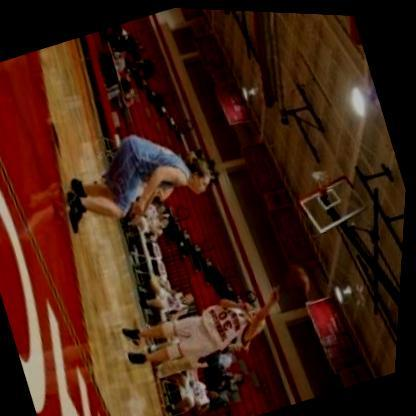basketball: (279, 254, 322, 303)
